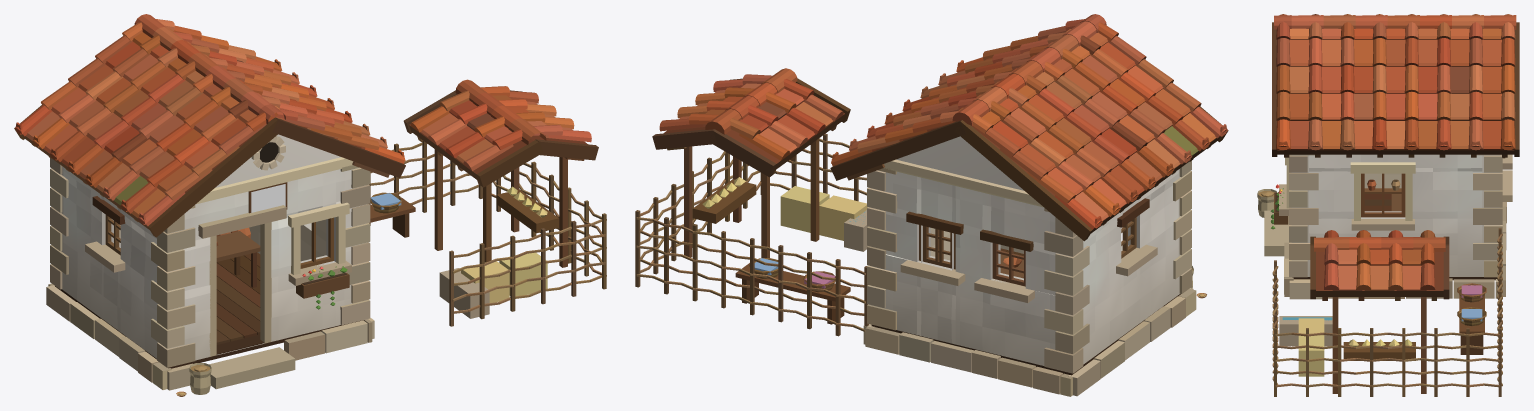
File: civ_shelter.glb
3 views of the same model, side by side, from view 1: azimuth 30°, elevation 25°; view 2: azimuth 150°, elevation 25°; view 3: azimuth 270°, elevation 25° (orthographic). The views are drawn at different scales.
Parts seen in each view (by area): view 1: House, Walls, Rooms; view 2: House, Walls, Rooms; view 3: House, Walls, Rooms.
Boxes of the visible parts, <box> form: House: <box>14,14,606,396</box>; Walls: <box>61,134,366,360</box>; Rooms: <box>119,219,326,344</box>; House: <box>635,14,1228,396</box>; Walls: <box>871,136,1180,365</box>; Rooms: <box>930,228,1023,278</box>; House: <box>1257,14,1519,396</box>; Walls: <box>1291,154,1499,276</box>; Rooms: <box>1364,173,1401,211</box>.
Bounding box in the file's own units: 6.23 × 3.24 × 3.27.
7 materials, 7 textured.
